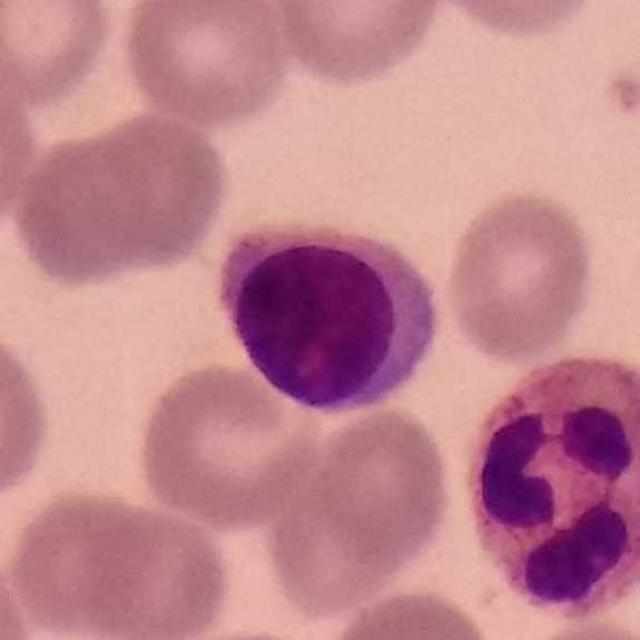Eosinophil: (452, 350, 640, 624)
Lymphocyte: (215, 225, 436, 417)
Platelets: (598, 59, 637, 119)
RBC: (10, 107, 235, 288), (132, 356, 320, 529), (440, 186, 600, 365), (306, 402, 460, 575), (78, 484, 236, 640), (15, 476, 162, 640), (115, 0, 295, 130), (264, 0, 447, 89), (0, 0, 119, 108), (322, 583, 502, 640), (0, 325, 56, 508), (423, 0, 609, 42), (0, 47, 39, 238)
